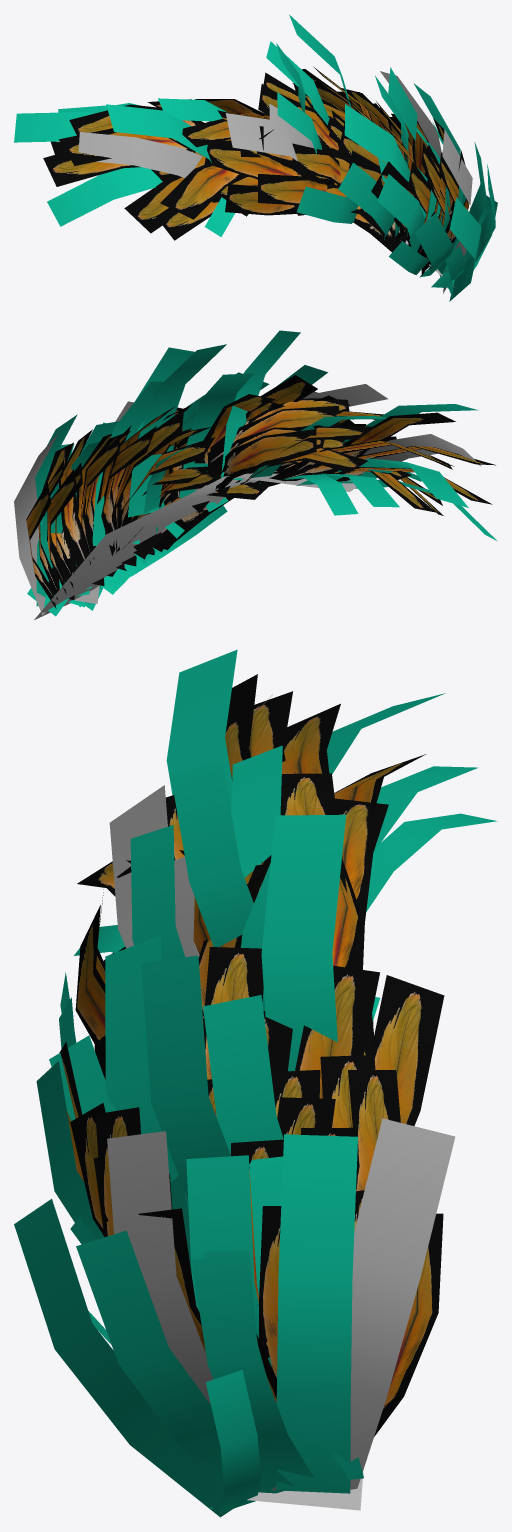
Rendered from feather_Harimodel01.fbx.
The picture shows the model from 3 angles, top to bottom: view 1: azimuth 30°, elevation 25°; view 2: azimuth 150°, elevation 25°; view 3: azimuth 270°, elevation 25°; orthographic projection. The views are drawn at different scales.
Visible parts, largest first — view 1: polySurface115; view 2: polySurface115; view 3: polySurface115.
Boxes of the visible parts, x1,y1,x2,y2 form: polySurface115: (14, 14, 497, 301); polySurface115: (14, 330, 496, 619); polySurface115: (14, 649, 497, 1517).
Size of the model in its own units: 745 by 492 by 365.
